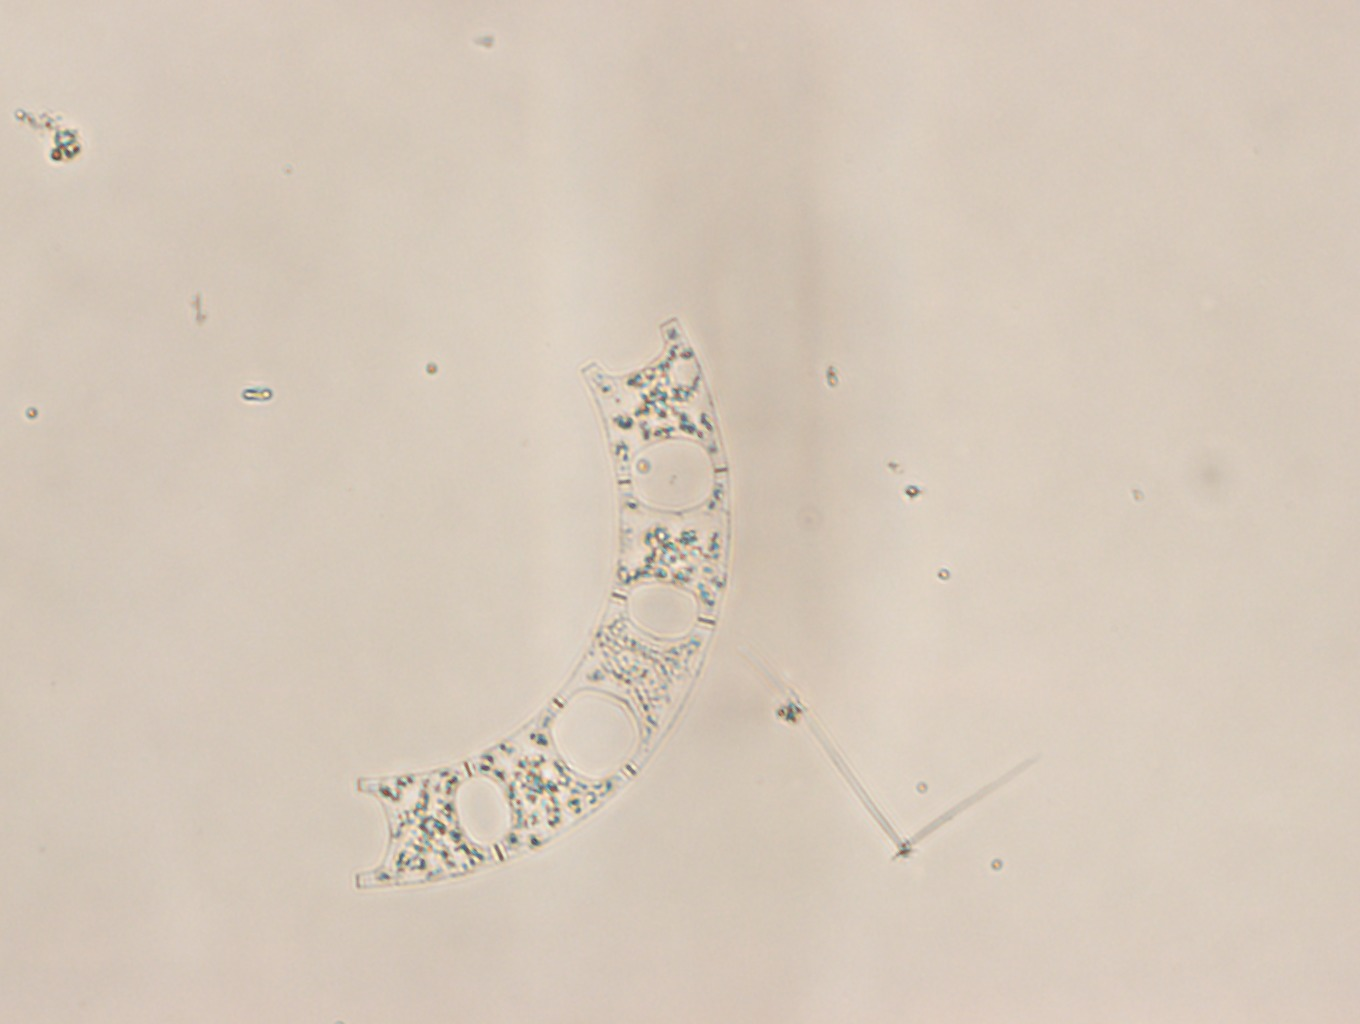eucampia: (366, 311, 734, 887)
